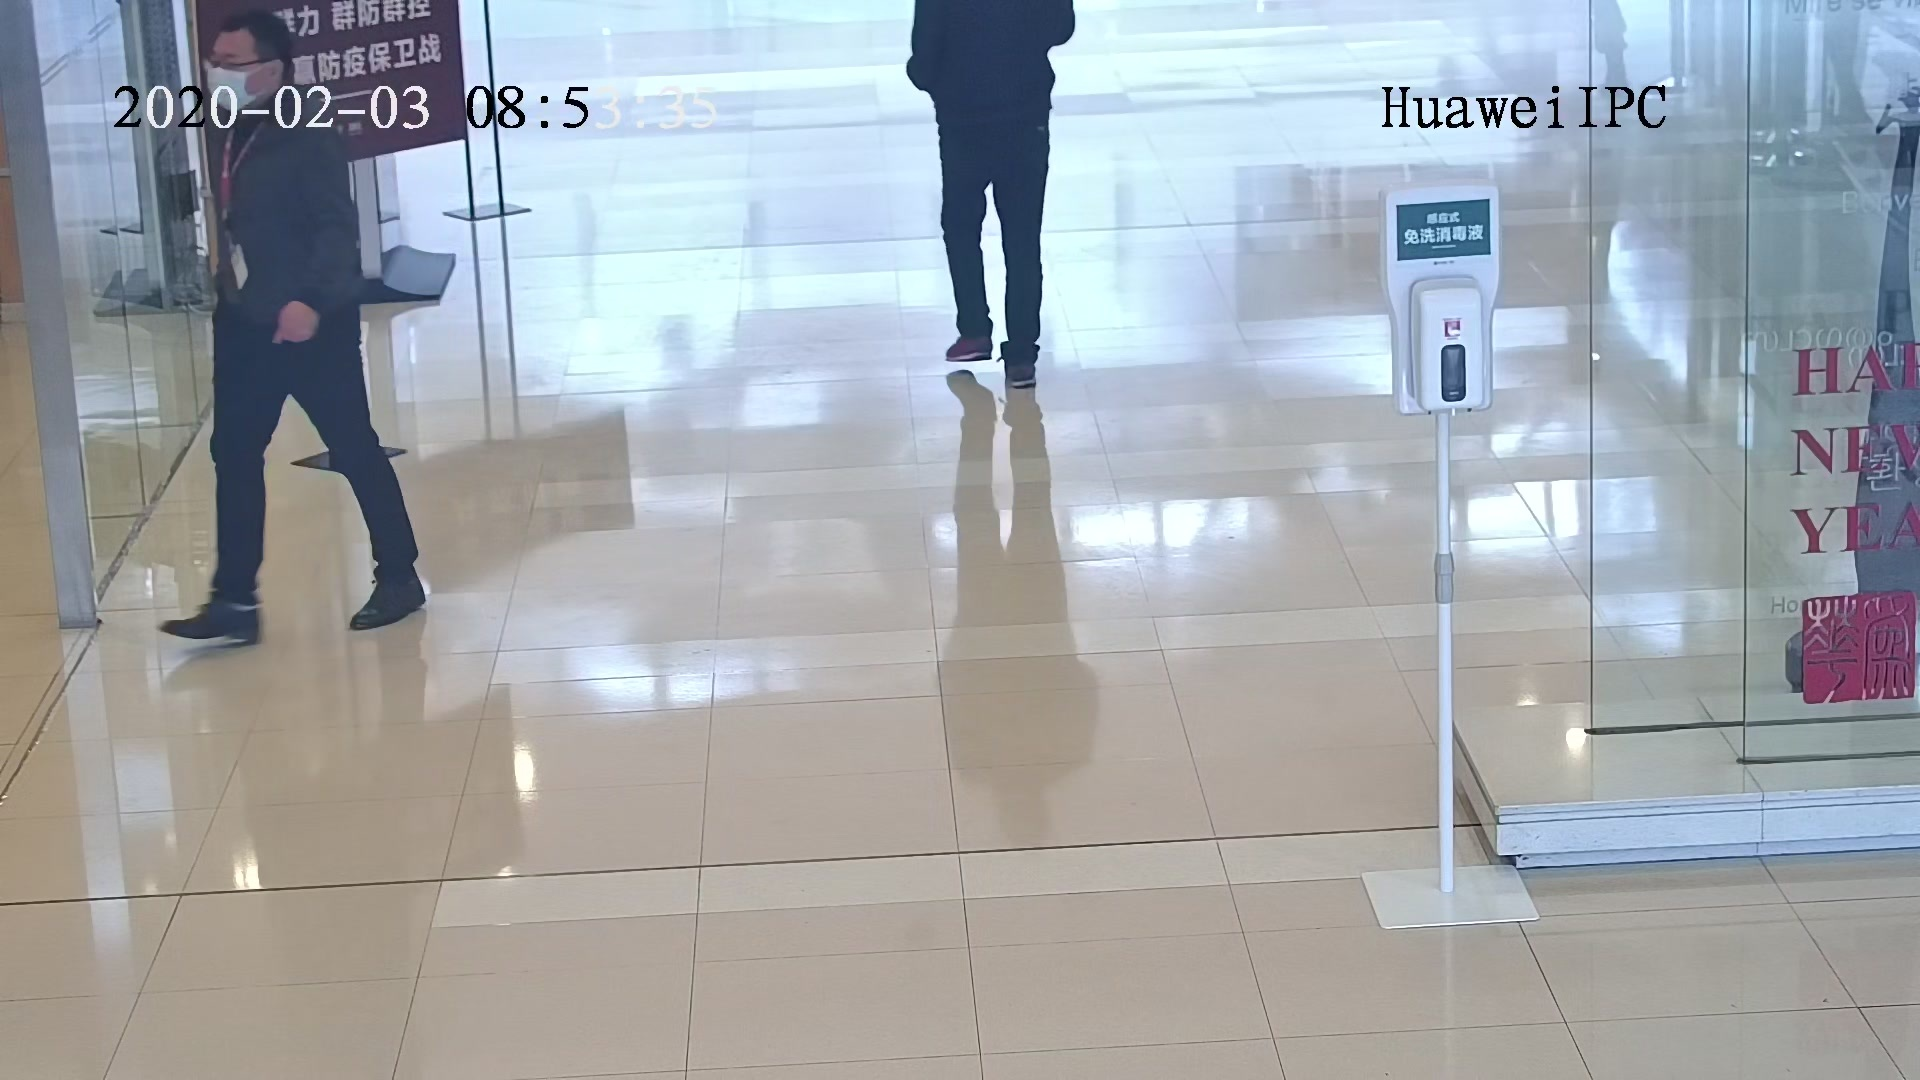face: (196, 30, 266, 116)
mask: (208, 64, 262, 112)
person: (206, 7, 336, 176)
